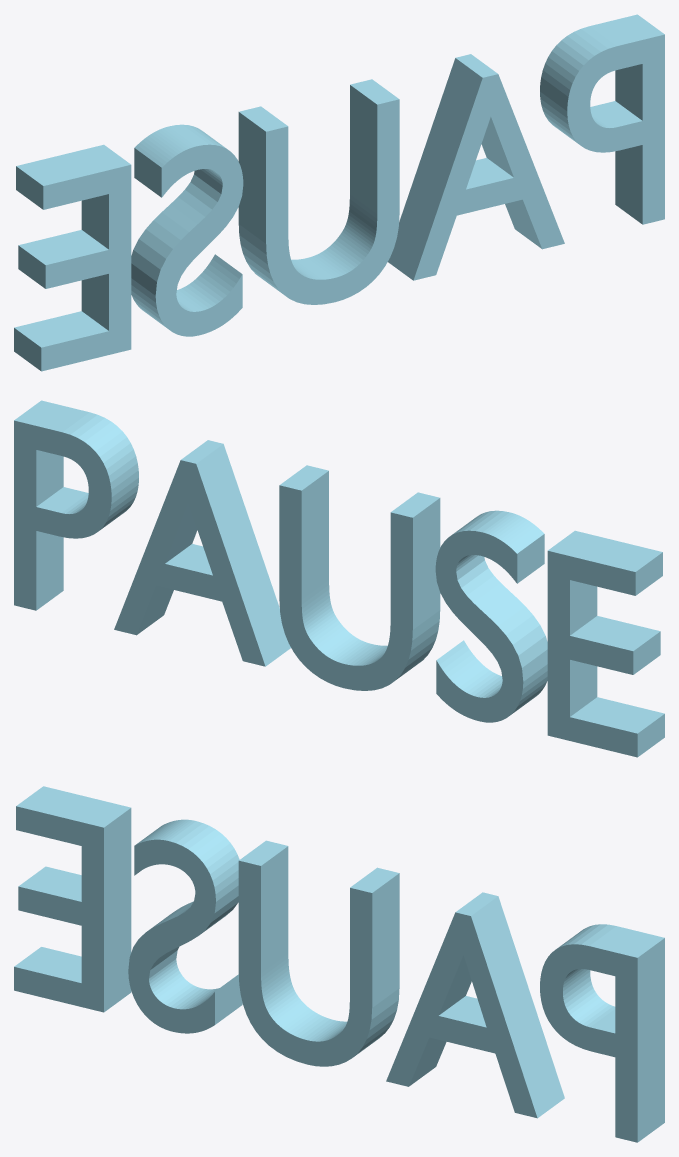
The model's file is pause.obj.
The picture shows the model from 3 angles, top to bottom: view 1: azimuth 30°, elevation 25°; view 2: azimuth 150°, elevation 25°; view 3: azimuth 330°, elevation 25°; orthographic projection.
Visible parts, largest first — view 1: テキスト; view 2: テキスト; view 3: テキスト.
Part boxes in pixels (<box>): テキスト: <box>14,14,664,371</box>; テキスト: <box>14,400,664,757</box>; テキスト: <box>14,786,664,1142</box>.
Bounding box in the file's own units: 1.78 × 0.5169 × 0.1352.
Materials: 1 (1 with a texture image).
